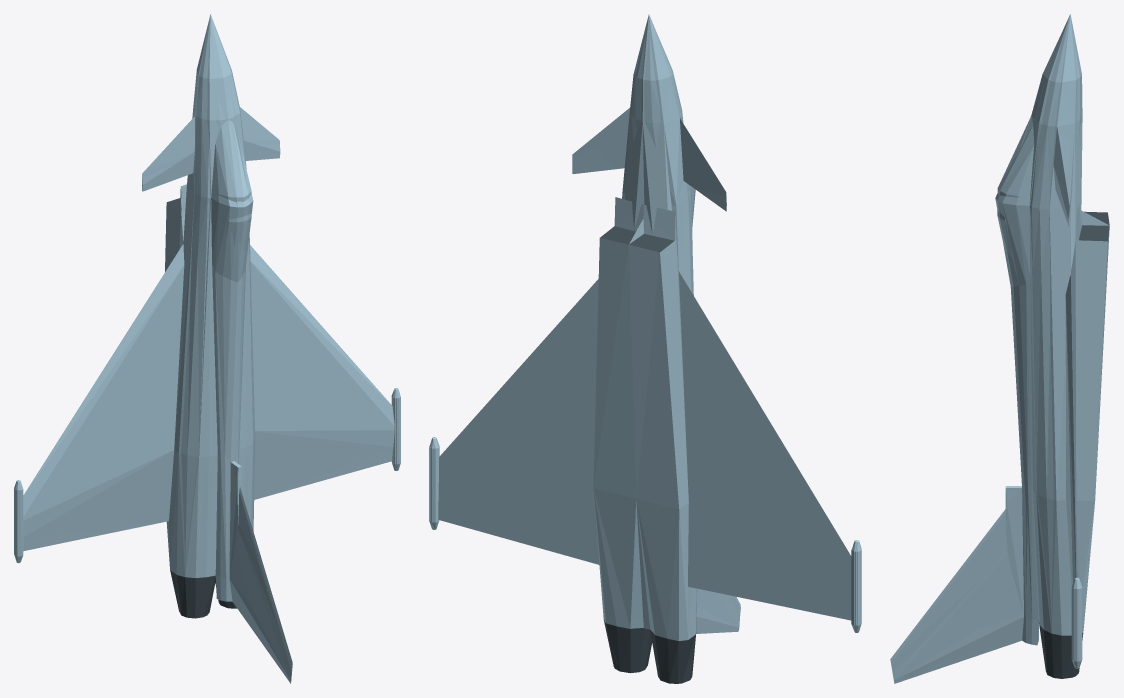
File: typhoon.glb
3 views of the same model, side by side, from view 1: azimuth 30°, elevation 25°; view 2: azimuth 150°, elevation 25°; view 3: azimuth 270°, elevation 25° (orthographic). The views are drawn at different scales.
Visible parts, largest first — view 1: db_Tmp2_newLOD_LOD child0_wings_p15146_Geometry_0.001, db_Tmp2_newLOD_LOD child0_body2_pl1_Geometry_0.001, db_Tmp2_newLOD_LOD child0_body_p14857_Geometry_0.001, db_Tmp2_newLOD_LOD child0_tail2_p13675_Geometry_0.001, db_Tmp2_newLOD_LOD child0_cpit2_p13650_Geometry_0.001, db_Tmp2_newLOD_LOD child0_cpit_p15076_Geometry_0.001, db_Tmp2_newLOD_LOD child0_tail_p15230_Geometry_0.001, db_Tmp2_newLOD_LOD child0_canard2_p13646_Geometry_0.001, db_Tmp2_newLOD_LOD child0_exh2_p13659_Geometry_0.001, db_Tmp2_newLOD_LOD child0_pods_p15258_Geometry_0.001, db_Tmp2_newLOD_LOD child0_canard_p15163_Geometry_0.001; view 2: db_Tmp2_newLOD_LOD child0_wing2_p13641_Geometry_0.001, db_Tmp2_newLOD_LOD child0_body2_pl1_Geometry_0.001, db_Tmp2_newLOD_LOD child0_wing3_p14442_Geometry_0.001, db_Tmp2_newLOD_LOD child0_body3_p14345_Geometry_0.001, db_Tmp2_newLOD_LOD child0_exh2_p13659_Geometry_0.001, db_Tmp2_newLOD_LOD child0_canard_p15163_Geometry_0.001, db_Tmp2_newLOD_LOD child0_body_p14857_Geometry_0.001, db_Tmp2_newLOD_LOD child0_pods_p15258_Geometry_0.001, db_Tmp2_newLOD_LOD child0_tail2_p13675_Geometry_0.001, db_Tmp2_newLOD_LOD child0_canard2_p13646_Geometry_0.001, db_Tmp2_newLOD_LOD child0_inlet2_p13640_Geometry_0.001; view 3: db_Tmp2_newLOD_LOD child0_body2_pl1_Geometry_0.001, db_Tmp2_newLOD_LOD child0_body_p14857_Geometry_0.001, db_Tmp2_newLOD_LOD child0_tail_p15230_Geometry_0.001, db_Tmp2_newLOD_LOD child0_tail2_p13675_Geometry_0.001, db_Tmp2_newLOD_LOD child0_cpit2_p13650_Geometry_0.001, db_Tmp2_newLOD_LOD child0_wings_p15146_Geometry_0.001, db_Tmp2_newLOD_LOD child0_cpit_p15076_Geometry_0.001, db_Tmp2_newLOD_LOD child0_exh2_p13659_Geometry_0.001, db_Tmp2_newLOD_LOD child0_body3_p14345_Geometry_0.001, db_Tmp2_newLOD_LOD child0_pods_p15258_Geometry_0.001, db_Tmp2_newLOD_LOD child0_inlet2_p13640_Geometry_0.001, db_Tmp2_newLOD_LOD child0_canard2_p13646_Geometry_0.001 (+1 smaller).
Part boxes in pixels (left/top/right/bottom): db_Tmp2_newLOD_LOD child0_wings_p15146_Geometry_0.001: left=23, top=244, right=394, bottom=550; db_Tmp2_newLOD_LOD child0_body2_pl1_Geometry_0.001: left=165, top=14, right=253, bottom=601; db_Tmp2_newLOD_LOD child0_body_p14857_Geometry_0.001: left=181, top=14, right=255, bottom=572; db_Tmp2_newLOD_LOD child0_tail2_p13675_Geometry_0.001: left=229, top=462, right=292, bottom=683; db_Tmp2_newLOD_LOD child0_cpit2_p13650_Geometry_0.001: left=211, top=119, right=253, bottom=282; db_Tmp2_newLOD_LOD child0_cpit_p15076_Geometry_0.001: left=216, top=120, right=251, bottom=251; db_Tmp2_newLOD_LOD child0_tail_p15230_Geometry_0.001: left=229, top=461, right=292, bottom=674; db_Tmp2_newLOD_LOD child0_canard2_p13646_Geometry_0.001: left=142, top=107, right=280, bottom=190; db_Tmp2_newLOD_LOD child0_exh2_p13659_Geometry_0.001: left=170, top=570, right=236, bottom=618; db_Tmp2_newLOD_LOD child0_pods_p15258_Geometry_0.001: left=14, top=388, right=400, bottom=563; db_Tmp2_newLOD_LOD child0_canard_p15163_Geometry_0.001: left=142, top=143, right=279, bottom=191; db_Tmp2_newLOD_LOD child0_wing2_p13641_Geometry_0.001: left=438, top=271, right=851, bottom=620; db_Tmp2_newLOD_LOD child0_body2_pl1_Geometry_0.001: left=593, top=14, right=697, bottom=640; db_Tmp2_newLOD_LOD child0_wing3_p14442_Geometry_0.001: left=439, top=520, right=851, bottom=618; db_Tmp2_newLOD_LOD child0_body3_p14345_Geometry_0.001: left=625, top=115, right=671, bottom=234; db_Tmp2_newLOD_LOD child0_exh2_p13659_Geometry_0.001: left=604, top=620, right=696, bottom=683; db_Tmp2_newLOD_LOD child0_canard_p15163_Geometry_0.001: left=572, top=108, right=725, bottom=196; db_Tmp2_newLOD_LOD child0_body_p14857_Geometry_0.001: left=631, top=15, right=693, bottom=633; db_Tmp2_newLOD_LOD child0_pods_p15258_Geometry_0.001: left=429, top=437, right=861, bottom=632; db_Tmp2_newLOD_LOD child0_tail2_p13675_Geometry_0.001: left=696, top=588, right=740, bottom=633; db_Tmp2_newLOD_LOD child0_canard2_p13646_Geometry_0.001: left=572, top=108, right=726, bottom=211; db_Tmp2_newLOD_LOD child0_inlet2_p13640_Geometry_0.001: left=600, top=226, right=674, bottom=252; db_Tmp2_newLOD_LOD child0_body2_pl1_Geometry_0.001: left=1010, top=14, right=1109, bottom=645; db_Tmp2_newLOD_LOD child0_body_p14857_Geometry_0.001: left=1023, top=14, right=1081, bottom=644; db_Tmp2_newLOD_LOD child0_tail_p15230_Geometry_0.001: left=890, top=486, right=1023, bottom=678; db_Tmp2_newLOD_LOD child0_tail2_p13675_Geometry_0.001: left=890, top=486, right=1023, bottom=683; db_Tmp2_newLOD_LOD child0_cpit2_p13650_Geometry_0.001: left=995, top=116, right=1034, bottom=286; db_Tmp2_newLOD_LOD child0_wings_p15146_Geometry_0.001: left=1065, top=275, right=1076, bottom=586; db_Tmp2_newLOD_LOD child0_cpit_p15076_Geometry_0.001: left=997, top=117, right=1033, bottom=257; db_Tmp2_newLOD_LOD child0_exh2_p13659_Geometry_0.001: left=1039, top=622, right=1083, bottom=678; db_Tmp2_newLOD_LOD child0_body3_p14345_Geometry_0.001: left=1057, top=115, right=1082, bottom=247; db_Tmp2_newLOD_LOD child0_pods_p15258_Geometry_0.001: left=1071, top=577, right=1082, bottom=668; db_Tmp2_newLOD_LOD child0_inlet2_p13640_Geometry_0.001: left=1079, top=211, right=1109, bottom=241; db_Tmp2_newLOD_LOD child0_canard2_p13646_Geometry_0.001: left=1053, top=127, right=1069, bottom=225.
Bounding box in the file's own units: 10.56 × 15.99 × 4.75.
